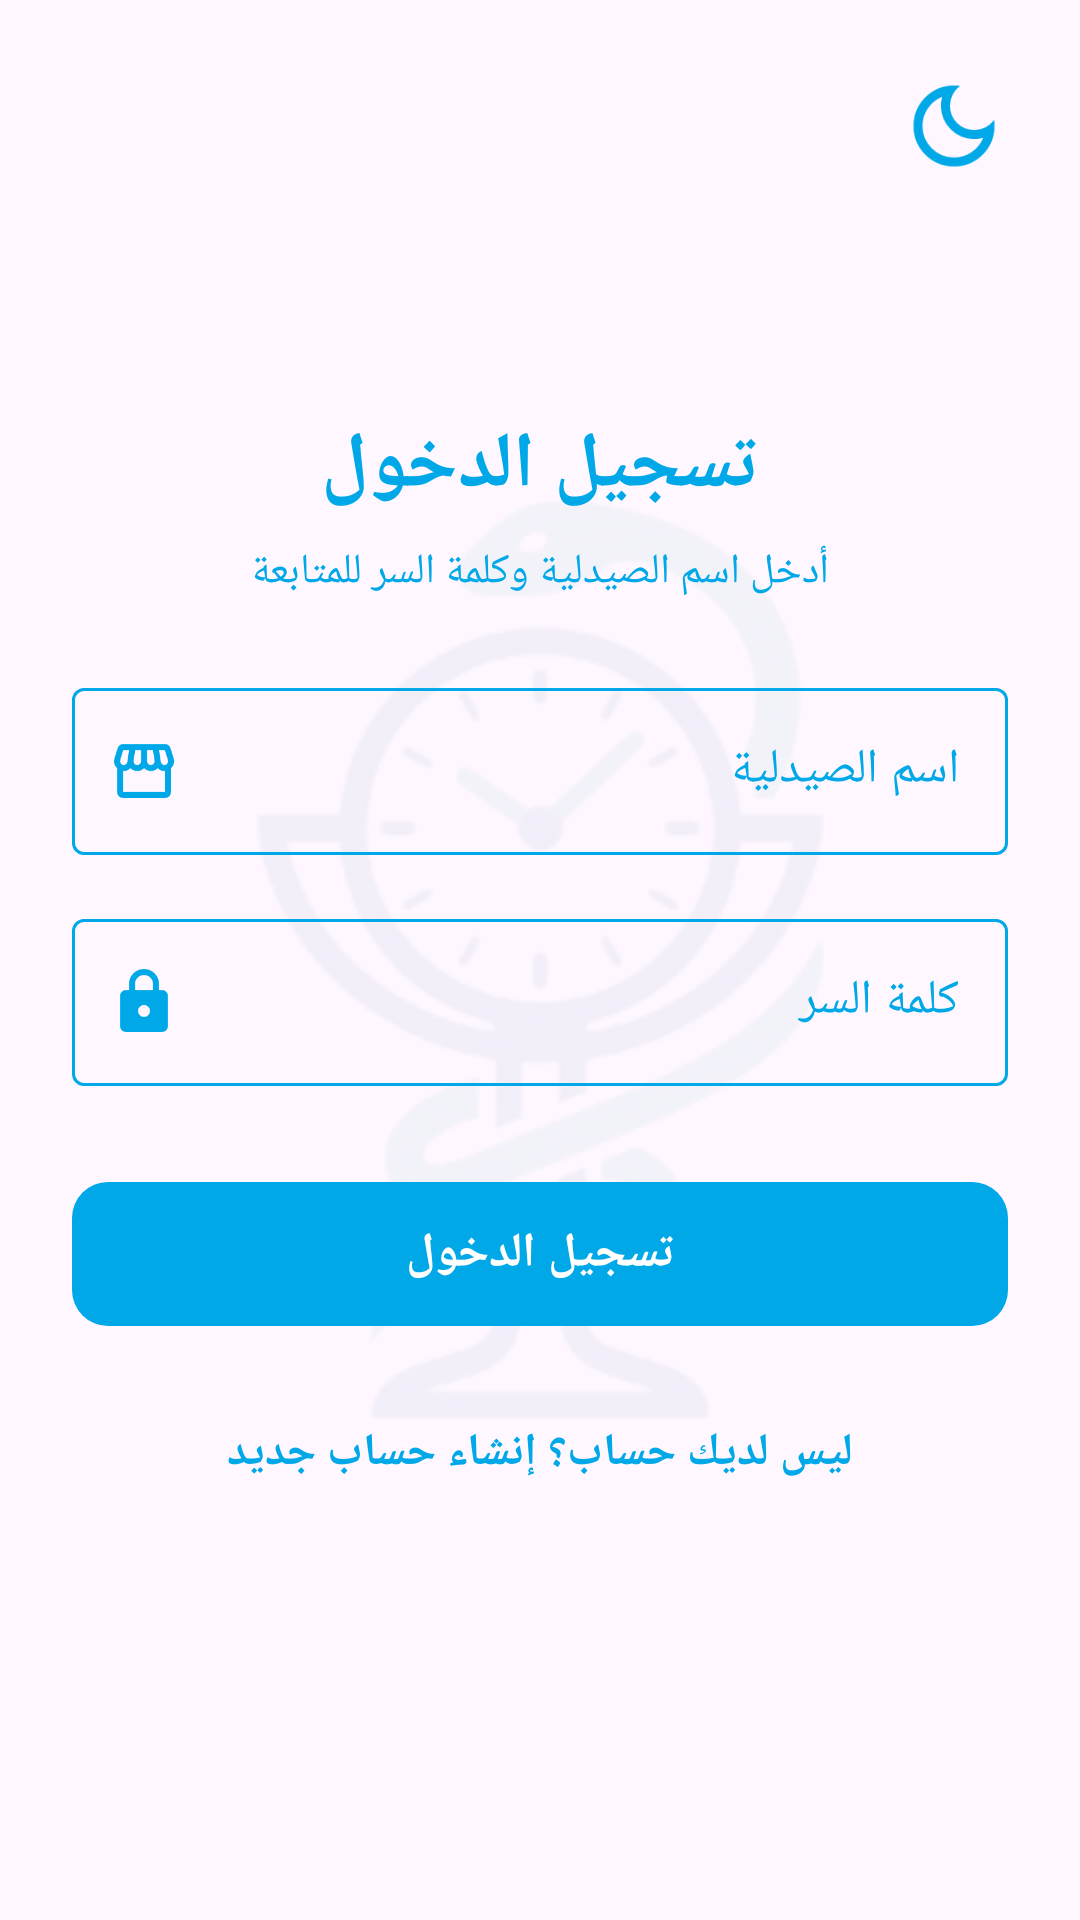

Named icons in this screenshot (1080×1920) and their bounding boxes, (x1, y1, x2, y2):
تغيير المظهر: (913, 85, 995, 167)
